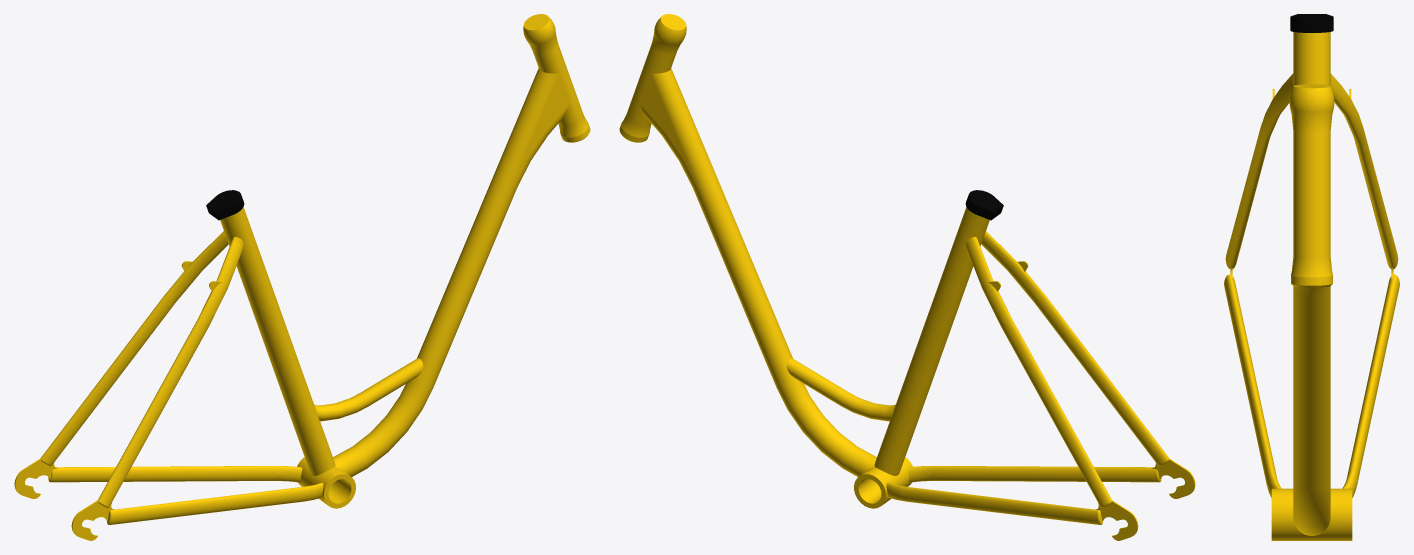
File: frameGelb.glb
3 views of the same model, side by side, from view 1: azimuth 30°, elevation 25°; view 2: azimuth 150°, elevation 25°; view 3: azimuth 270°, elevation 25° (orthographic). The views are drawn at different scales.
Visible parts, largest first — view 1: Bike01\Rahmen; view 2: Bike01\Rahmen; view 3: Bike01\Rahmen.
Part boxes in pixels (left/top/right/bottom): Bike01\Rahmen: left=14, top=14, right=590, bottom=540; Bike01\Rahmen: left=619, top=14, right=1195, bottom=540; Bike01\Rahmen: left=1224, top=14, right=1399, bottom=540.
Bounding box in the file's own units: 0.9466 × 0.7106 × 0.1879.
